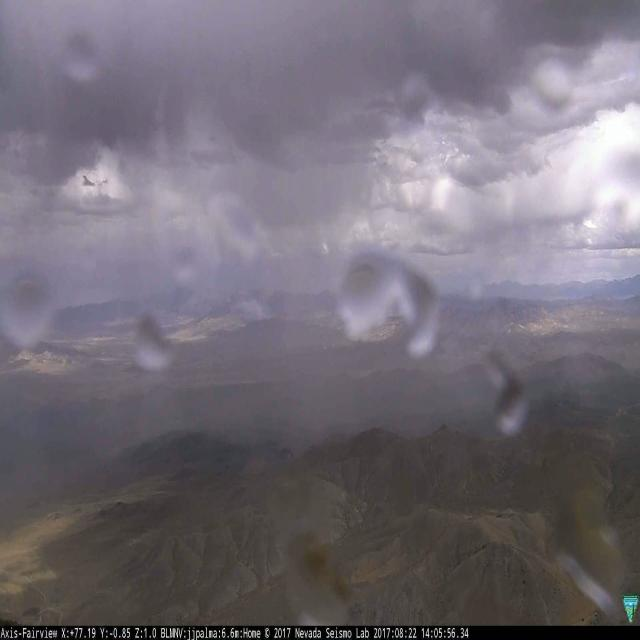smoke: (229, 294, 274, 320)
